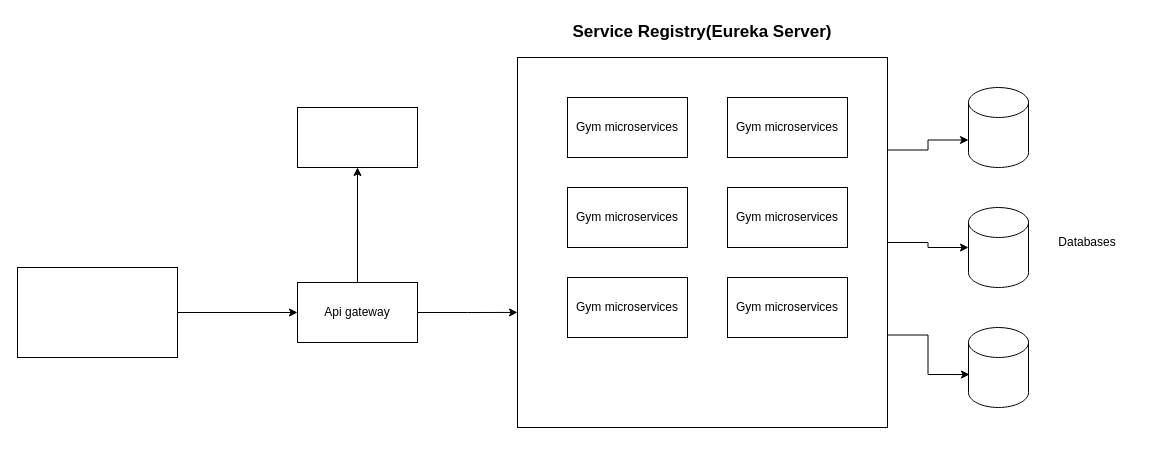
Some shapes in this 1155 by 453 pixel diagram are drawn without their labels. Each missing label, with the centre of its shape:
"Authentication server" belongs at point (357, 137).
"Clients" belongs at point (97, 312).
